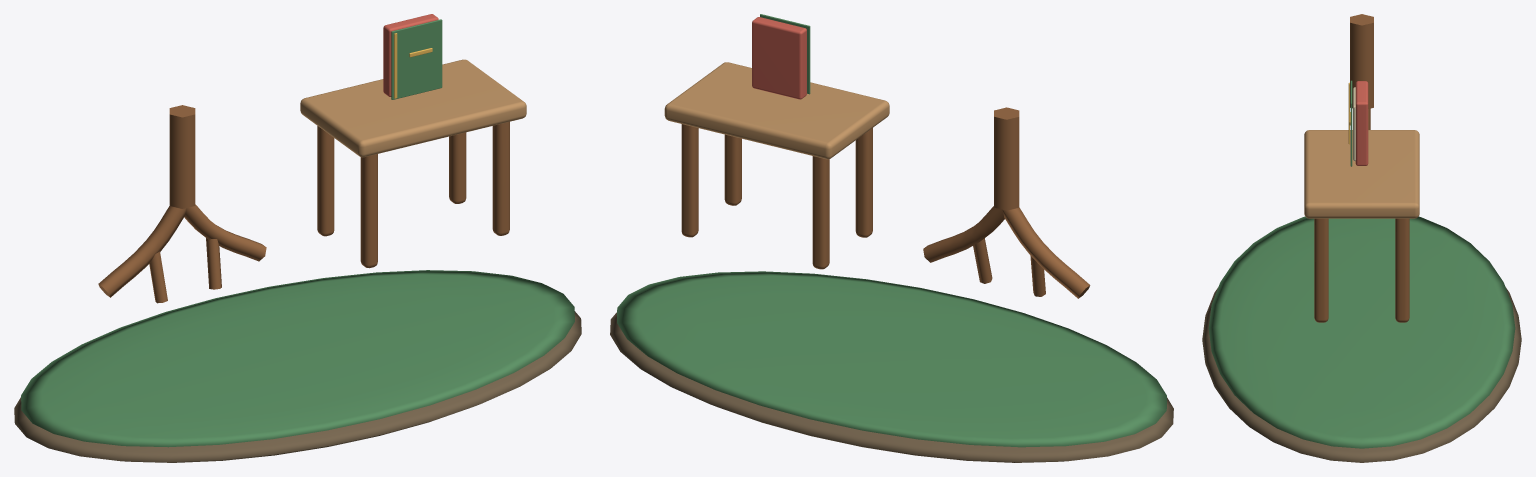
The model's file is complete-first-based-on-roots.glb.
The picture shows the model from 3 angles, left to right: view 1: azimuth 30°, elevation 25°; view 2: azimuth 150°, elevation 25°; view 3: azimuth 270°, elevation 25°; orthographic projection. The views are drawn at different scales.
Visible parts, largest first — view 1: complete-first-based-on-roots_surface_01, complete-first-based-on-roots_surface_02, complete-first-based-on-roots_surface_03, complete-first-based-on-roots_surface_00, complete-first-based-on-roots_surface_04; view 2: complete-first-based-on-roots_surface_01, complete-first-based-on-roots_surface_02, complete-first-based-on-roots_surface_03, complete-first-based-on-roots_surface_00, complete-first-based-on-roots_surface_04; view 3: complete-first-based-on-roots_surface_01, complete-first-based-on-roots_surface_03, complete-first-based-on-roots_surface_00, complete-first-based-on-roots_surface_02, complete-first-based-on-roots_surface_04.
Part boxes in pixels (box(x1,y1,x2,y2)): complete-first-based-on-roots_surface_01: box(21, 19, 574, 447); complete-first-based-on-roots_surface_02: box(98, 105, 509, 303); complete-first-based-on-roots_surface_03: box(300, 59, 526, 157); complete-first-based-on-roots_surface_00: box(14, 311, 581, 462); complete-first-based-on-roots_surface_04: box(383, 14, 438, 96); complete-first-based-on-roots_surface_01: box(617, 14, 1166, 447); complete-first-based-on-roots_surface_02: box(681, 107, 1090, 298); complete-first-based-on-roots_surface_03: box(664, 62, 889, 159); complete-first-based-on-roots_surface_00: box(610, 312, 1173, 462); complete-first-based-on-roots_surface_04: box(752, 17, 806, 99); complete-first-based-on-roots_surface_01: box(1208, 80, 1515, 448); complete-first-based-on-roots_surface_03: box(1304, 130, 1419, 218); complete-first-based-on-roots_surface_00: box(1202, 288, 1521, 462); complete-first-based-on-roots_surface_02: box(1314, 14, 1409, 322); complete-first-based-on-roots_surface_04: box(1355, 81, 1368, 165).
Bounding box in the file's own units: 4.56 × 2.72 × 2.5.
